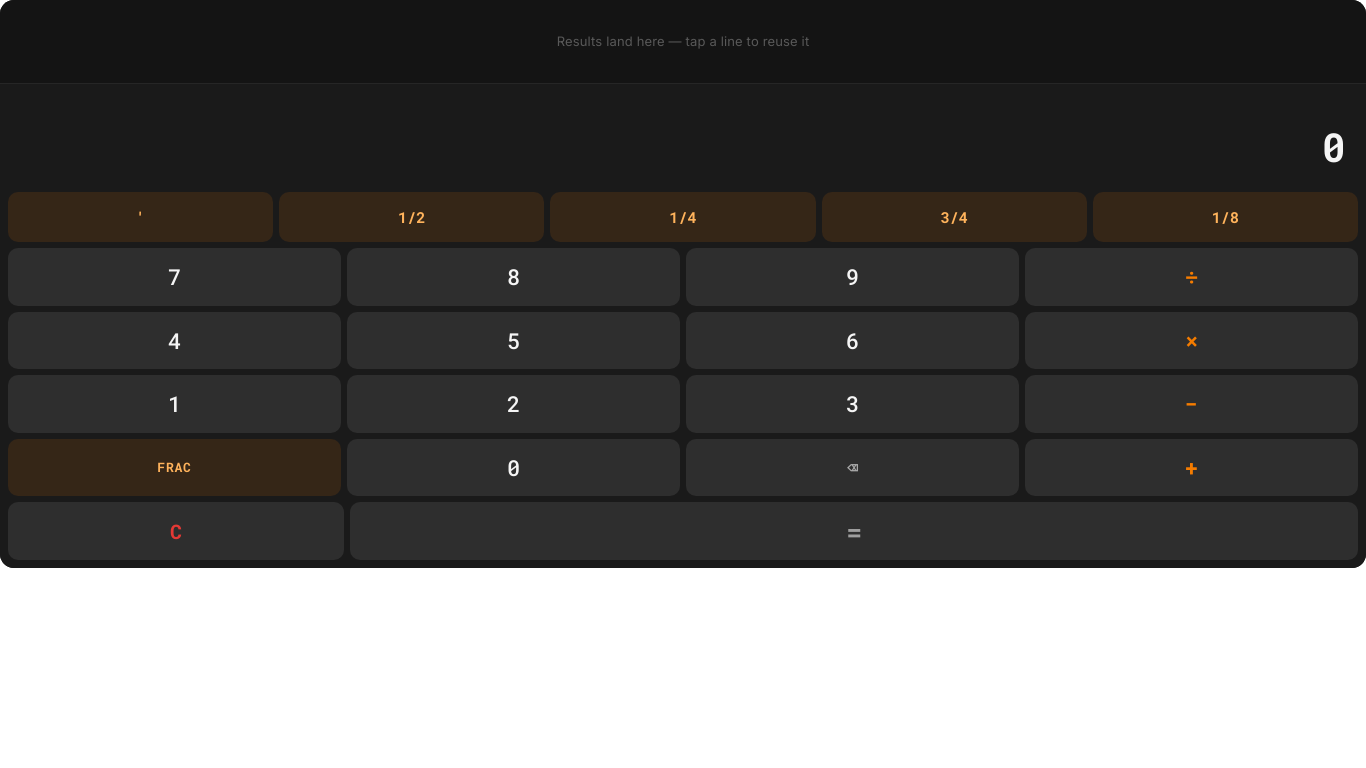
Test case: TapeCalc UI › quick-entry row › foot-mark button appends to a whole-number input
Click the button "1": (174, 404) [8, 375, 341, 433]
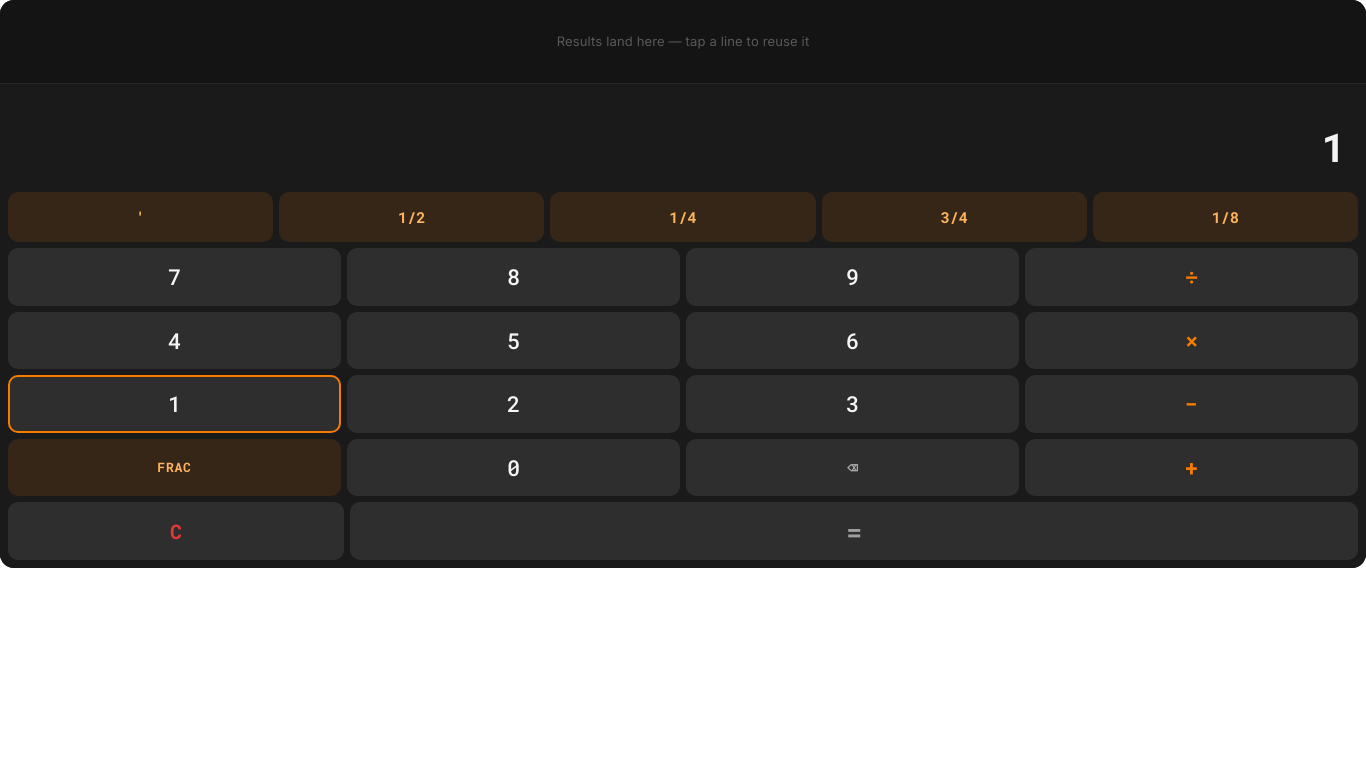
Click the button "2": (514, 404) [347, 375, 680, 433]
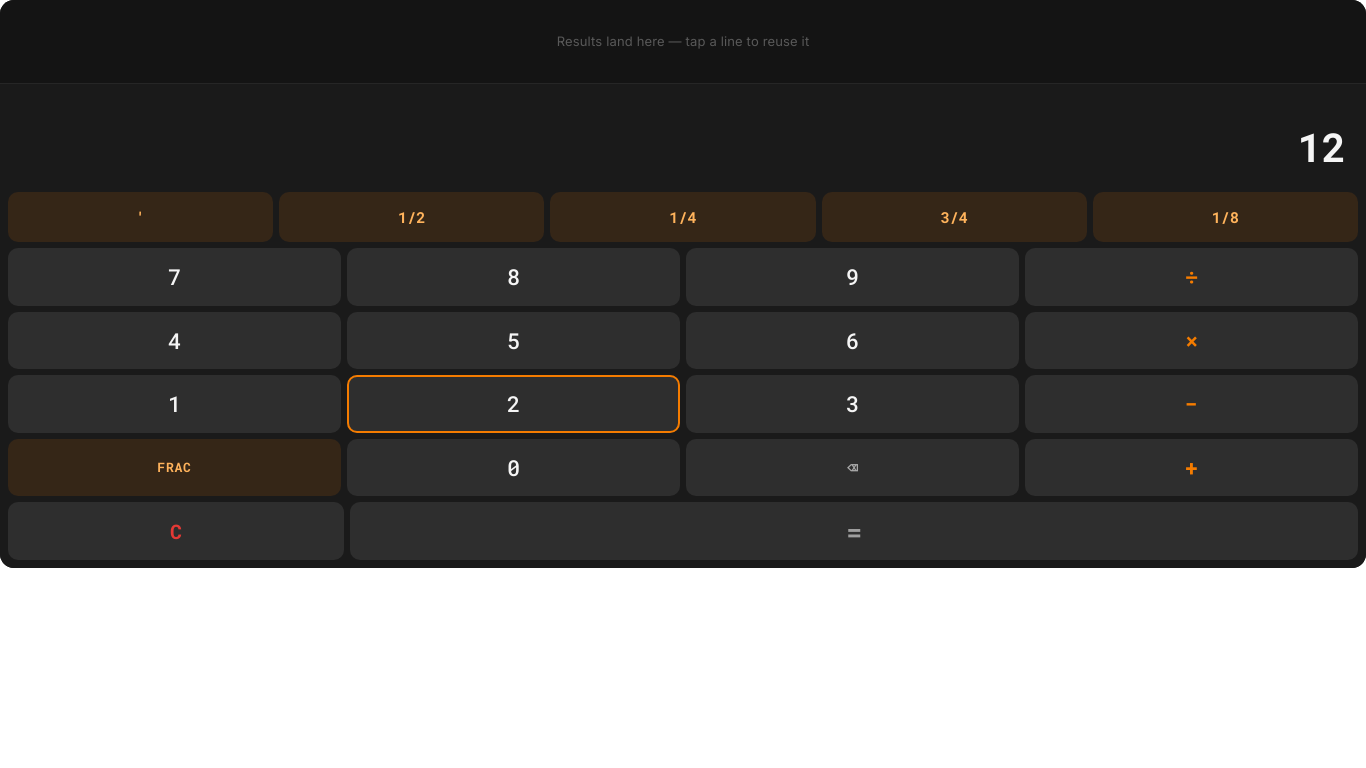
Click the button named "foot mark": (141, 217) [8, 192, 273, 242]
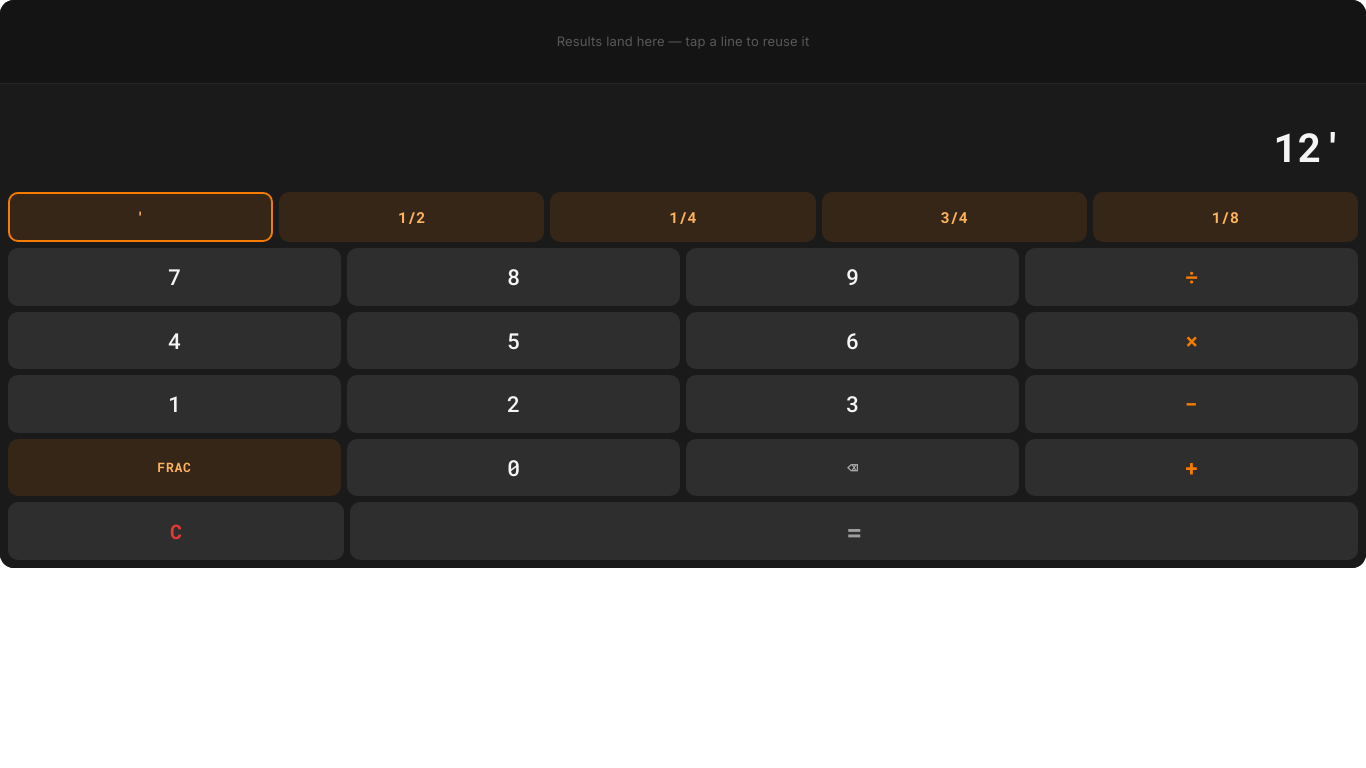
expect the text with test id "display-value" reads "12'": met, box [1274, 120, 1346, 173]
